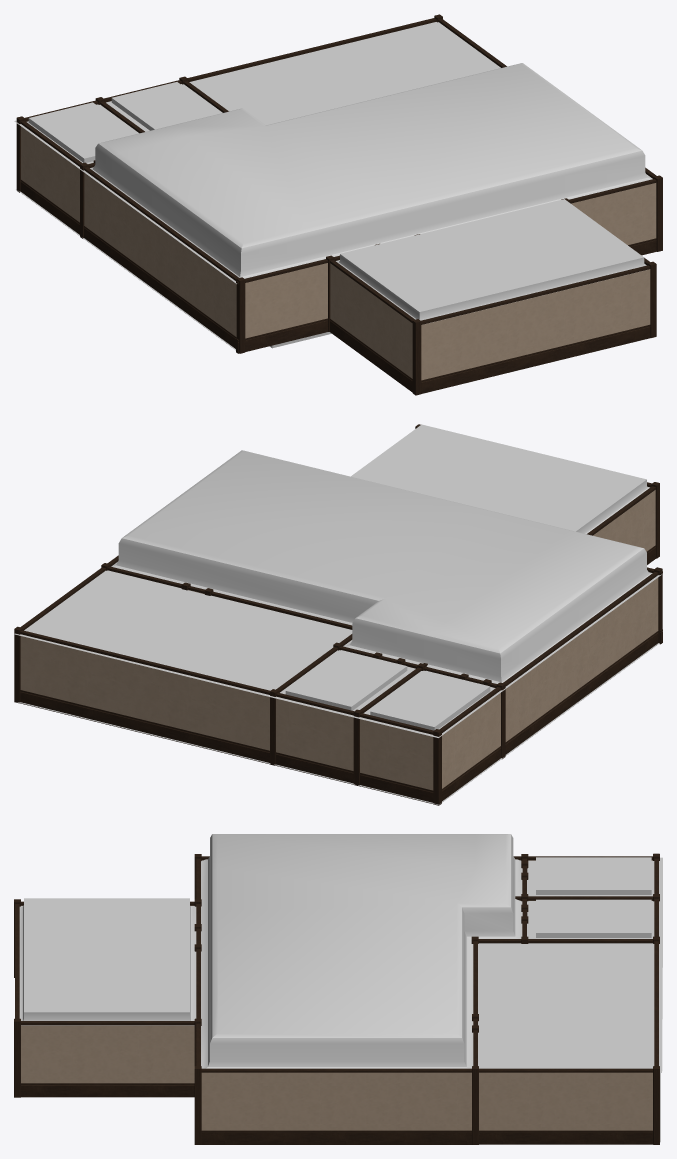
Rendered from bar ygy.fbx.
3 renders of one model, top to bottom at view 1: azimuth 30°, elevation 25°; view 2: azimuth 150°, elevation 25°; view 3: azimuth 270°, elevation 25°, orthographic. The views are drawn at different scales.
Parts seen in each view (by area): view 1: Ceilling, Cube.061, Cube.028, Cube.007, Cube.009, Cube.031, Cube.013, Cube.027, Cube.127, Cube.011, floor; view 2: Ceilling, Cube.027, Cube.028, Cube.031, Cube.007, floor, Cube.019, Cube.030; view 3: Ceilling, Cube.016, Cube.005, Cube.023, Cube.027, Cube.021, Cube.015, Cube.061, Cube.013, Cube.126, Cube.017, Cube.022 (+1 smaller).
Boxes of the visible parts, bbox=[...] form: Ceilling: bbox=[14, 22, 652, 322]; Cube.061: bbox=[421, 265, 650, 393]; Cube.028: bbox=[84, 167, 238, 348]; Cube.007: bbox=[330, 260, 414, 392]; Cube.009: bbox=[236, 255, 339, 353]; Cube.031: bbox=[20, 120, 82, 234]; Cube.013: bbox=[569, 179, 656, 255]; Cube.027: bbox=[25, 18, 436, 121]; Cube.127: bbox=[412, 319, 421, 395]; Cube.011: bbox=[236, 277, 245, 353]; floor: bbox=[16, 189, 331, 349]; Ceilling: bbox=[14, 424, 661, 737]; Cube.027: bbox=[20, 630, 433, 803]; Cube.028: bbox=[503, 572, 658, 754]; Cube.031: bbox=[439, 687, 501, 800]; Cube.007: bbox=[587, 486, 655, 564]; floor: bbox=[17, 643, 659, 804]; Cube.019: bbox=[211, 591, 352, 629]; Cube.030: bbox=[433, 729, 441, 805]; Ceilling: bbox=[19, 834, 662, 1072]; Cube.016: bbox=[201, 1068, 471, 1144]; Cube.005: bbox=[21, 1021, 194, 1097]; Cube.023: bbox=[479, 1068, 652, 1144]; Cube.027: bbox=[654, 858, 658, 1065]; Cube.021: bbox=[478, 939, 652, 943]; Cube.015: bbox=[194, 1066, 201, 1144]; Cube.061: bbox=[15, 904, 19, 1018]; Cube.013: bbox=[196, 949, 200, 1065]; Cube.126: bbox=[14, 1018, 20, 1097]; Cube.017: bbox=[472, 1066, 478, 1144]; Cube.022: bbox=[653, 1066, 659, 1144].
Bounding box in the file's own units: 2620 × 642 × 3330.
